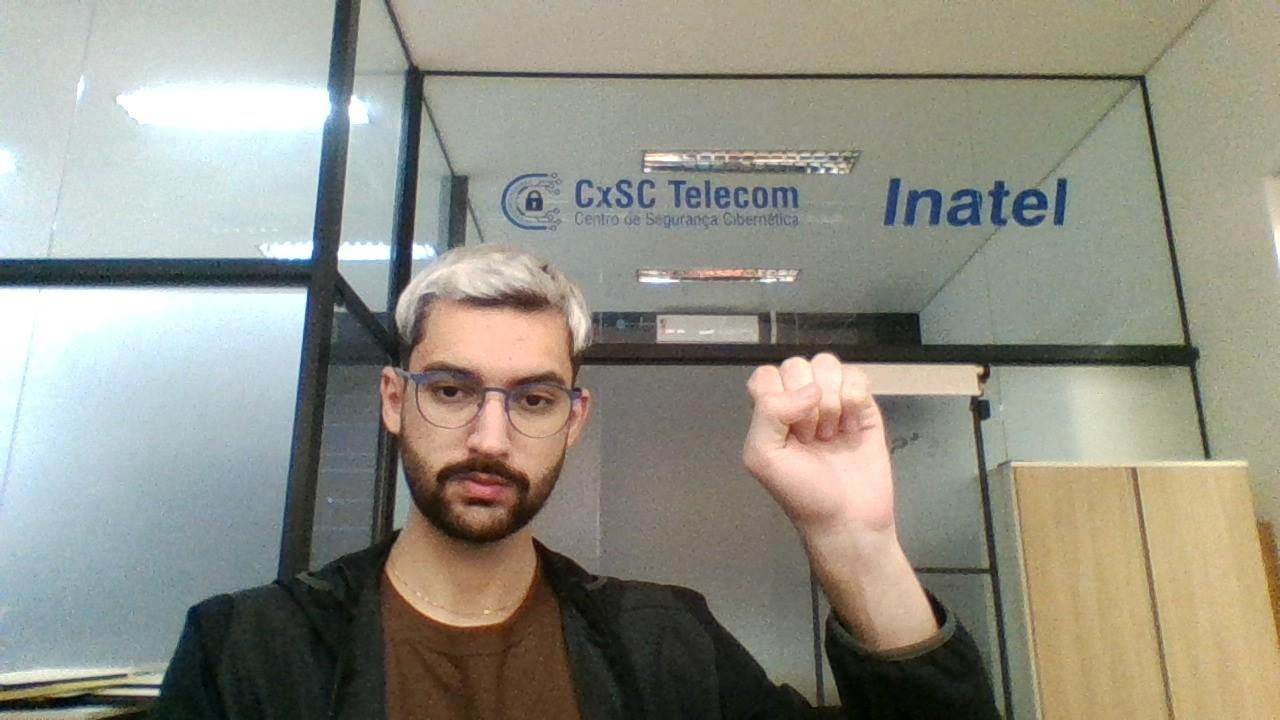S: (738, 344, 906, 546)
